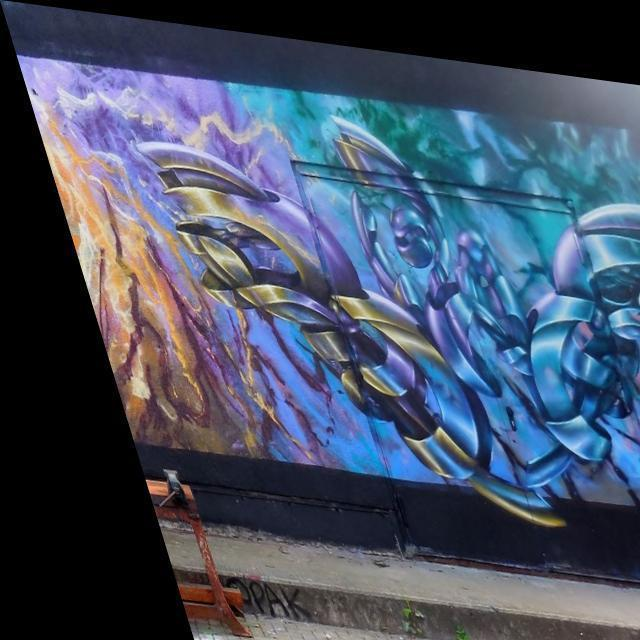nonspitting: (13, 57, 640, 536)
